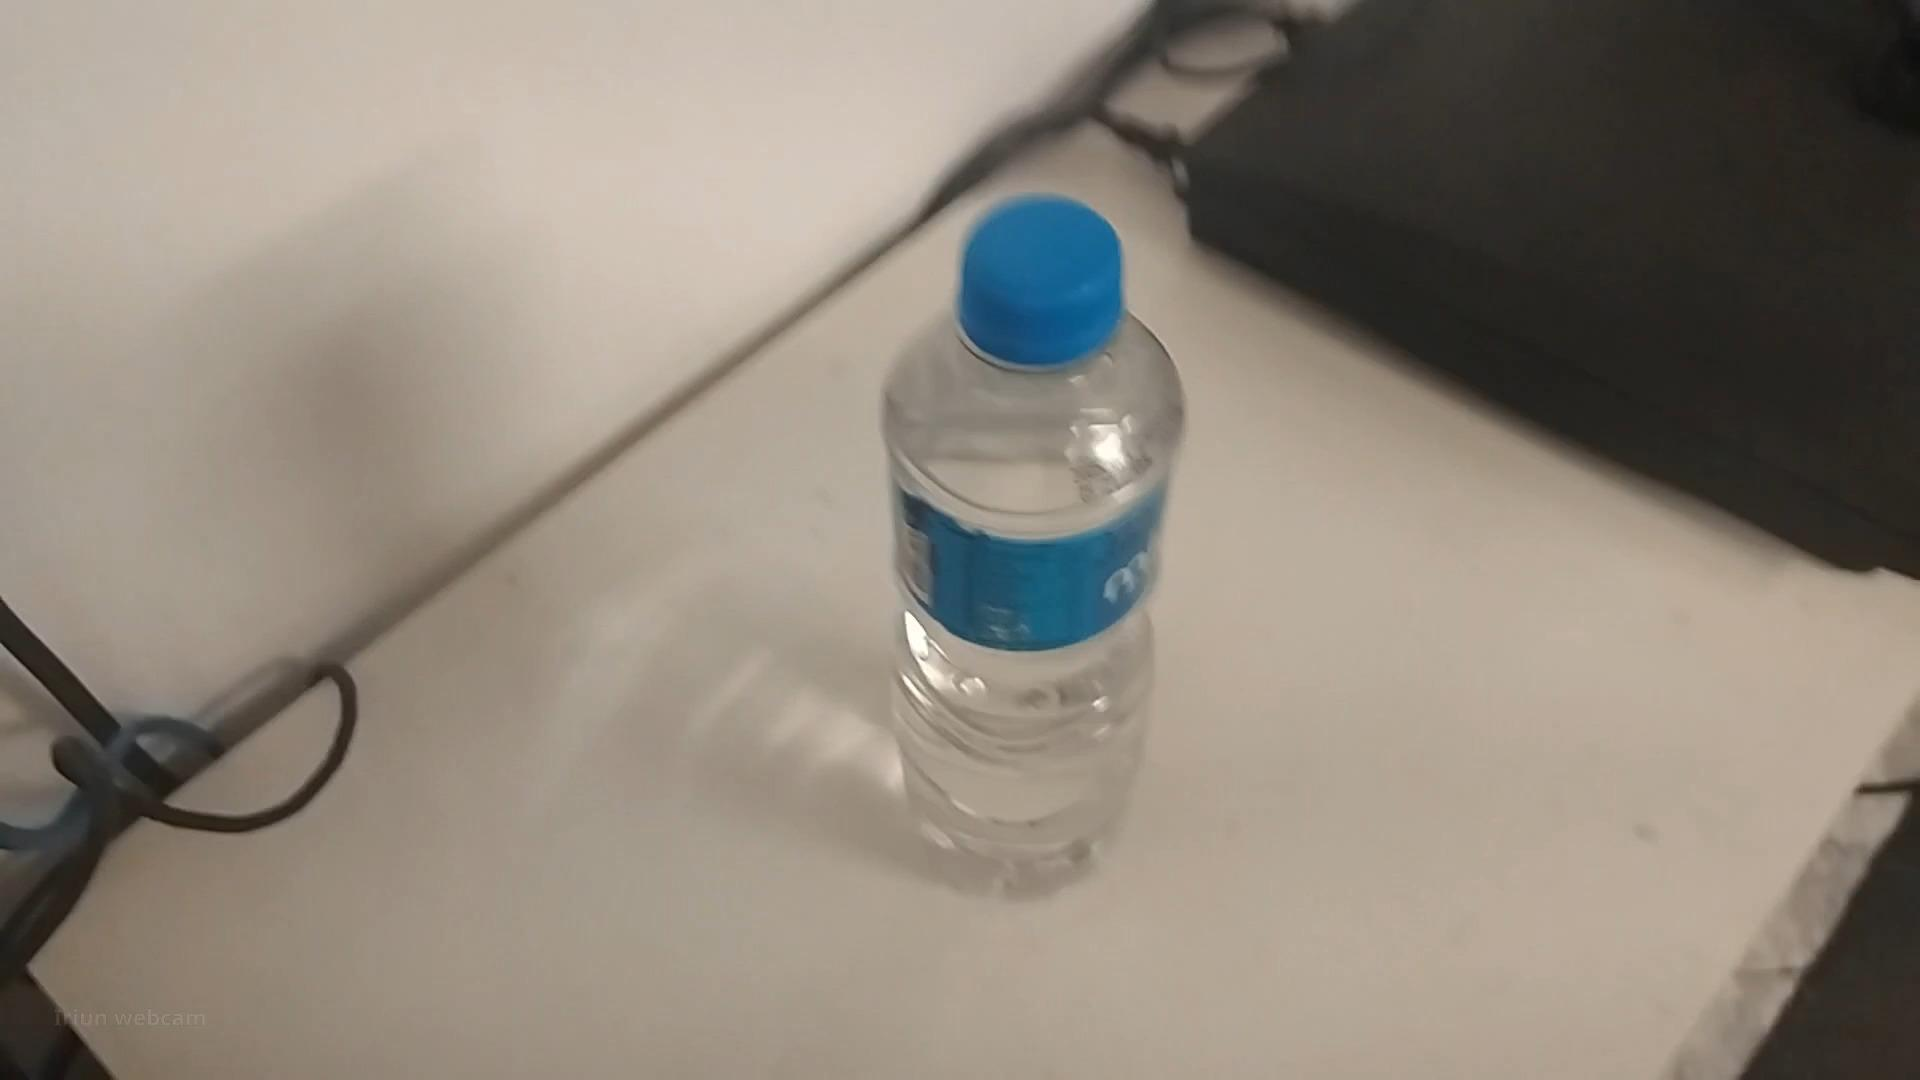agua: (881, 189, 1176, 884)
